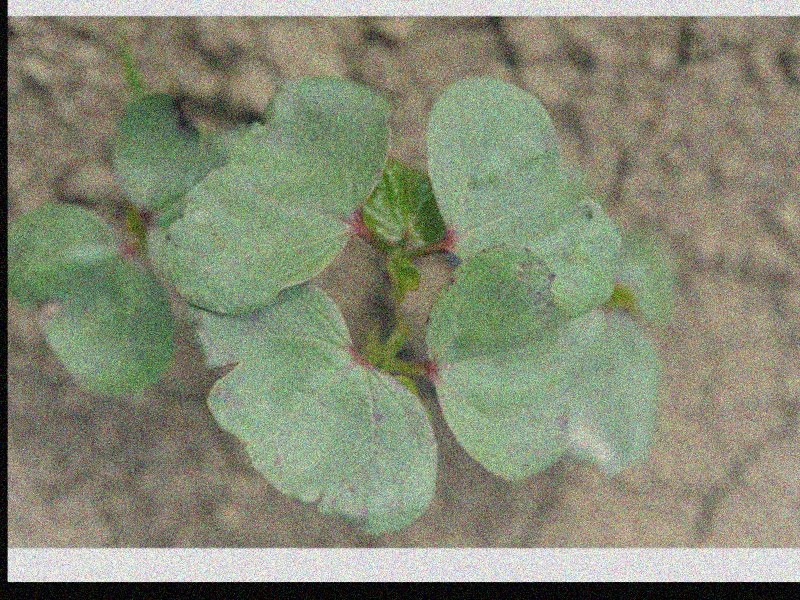cotton: (9, 77, 657, 531)
